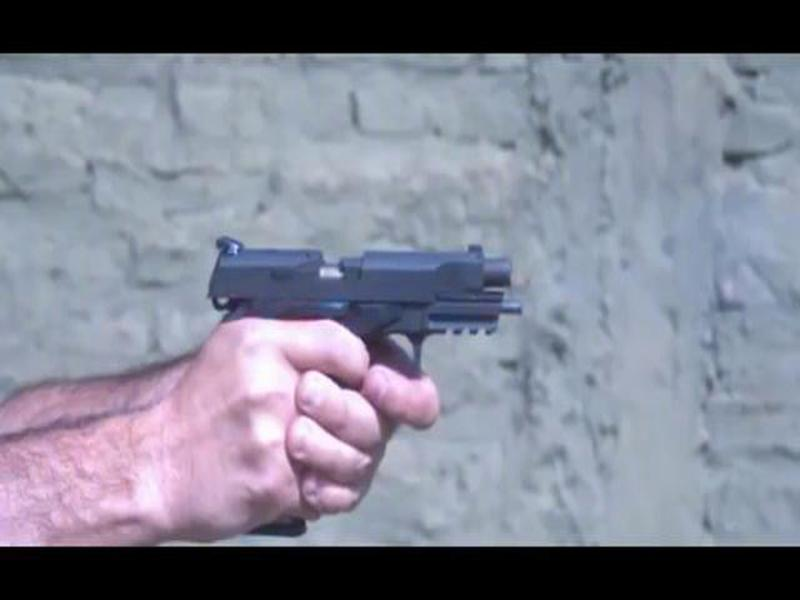Pistola: (165, 210, 540, 554)
